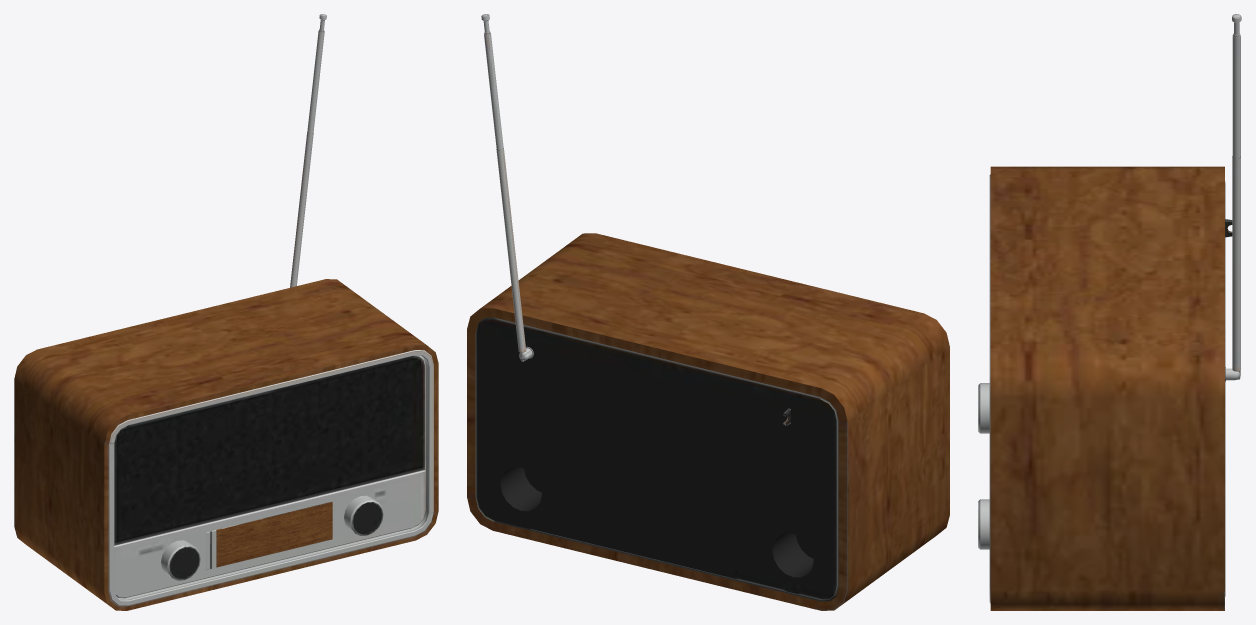
Rendered from Radio.glb.
3 renders of one model, left to right at view 1: azimuth 30°, elevation 25°; view 2: azimuth 150°, elevation 25°; view 3: azimuth 270°, elevation 25°, orthographic. The views are drawn at different scales.
Parts seen in each view (by area): view 1: Tune; view 2: Tune; view 3: Tune.
Boxes of the visible parts, box(x1,y1,x2,y2) form: Tune: box(14, 14, 438, 610); Tune: box(467, 14, 949, 610); Tune: box(978, 14, 1241, 610).
Bounding box in the file's own units: 0.2488 × 0.3245 × 0.1303.
Materials: 1 (1 with a texture image).
